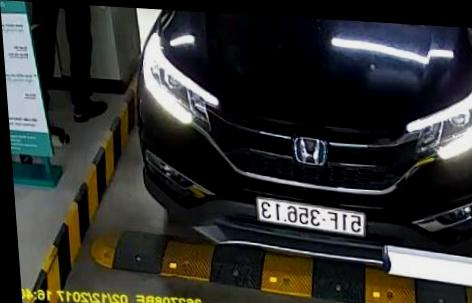License_Plate: (254, 198, 370, 235)
